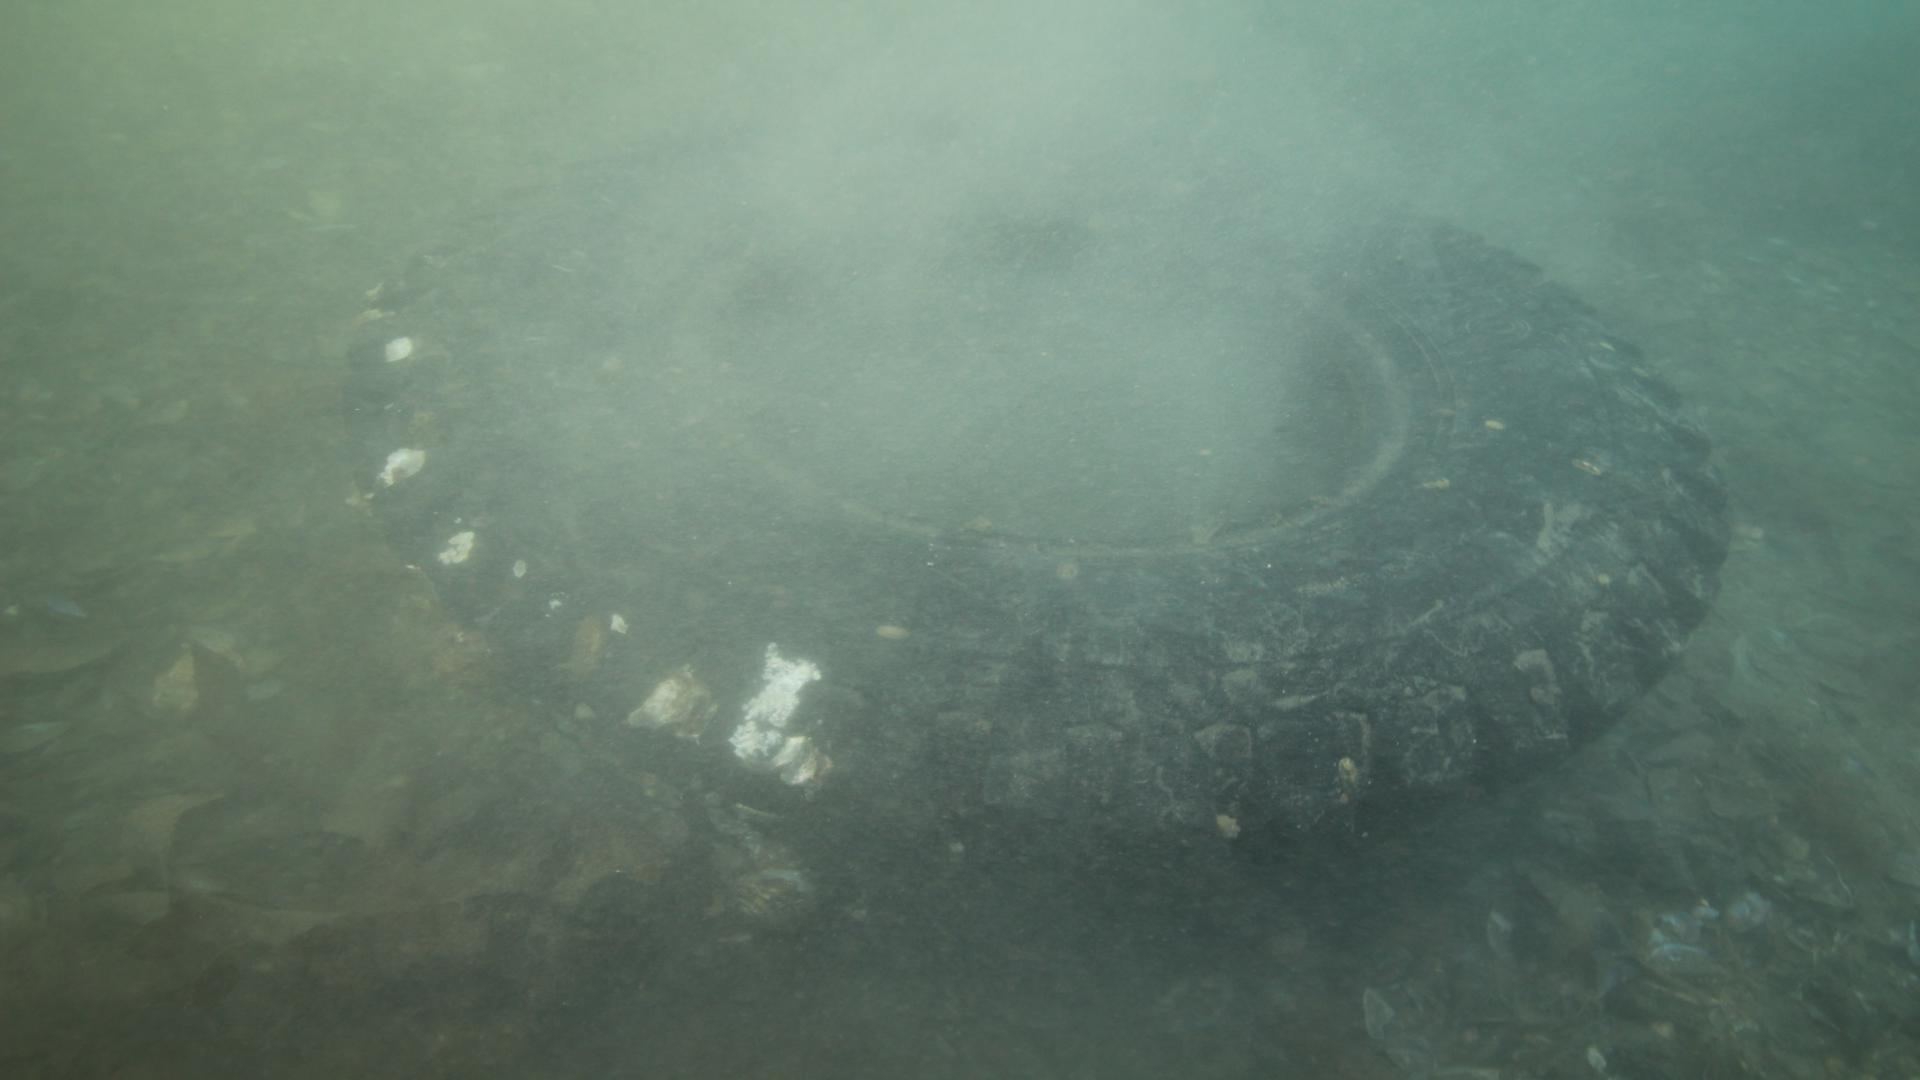tire: (345, 116, 1733, 967)
